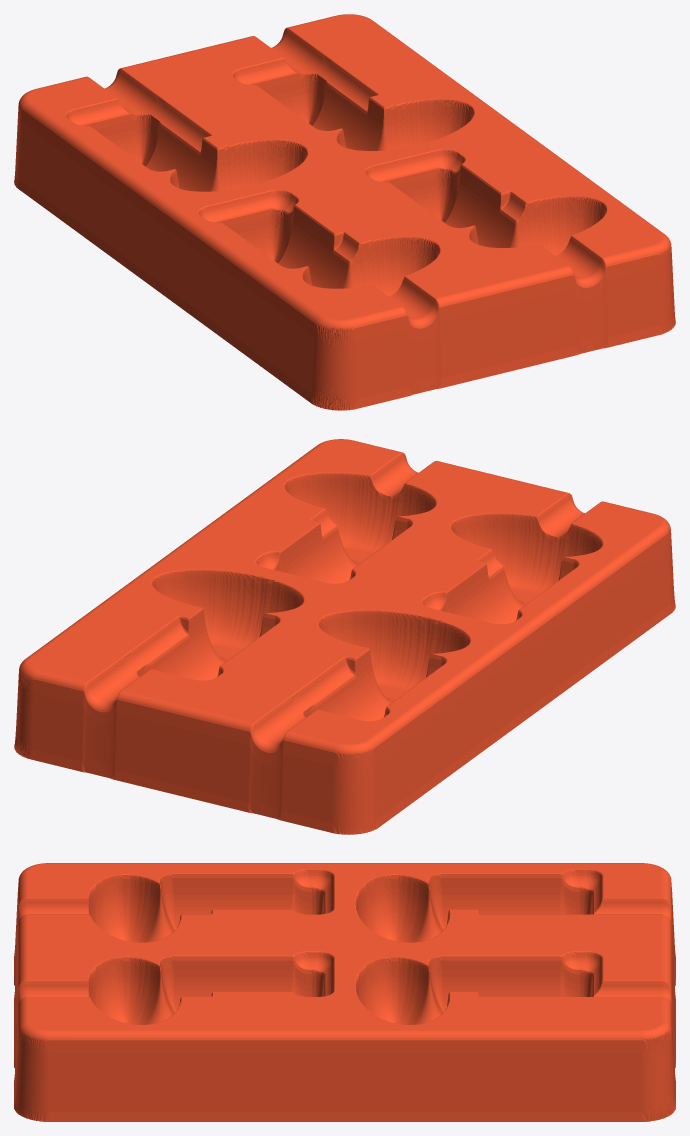
The model's file is mold.glb.
The picture shows the model from 3 angles, top to bottom: view 1: azimuth 30°, elevation 25°; view 2: azimuth 150°, elevation 25°; view 3: azimuth 270°, elevation 25°; orthographic projection.
Visible parts, largest first — view 1: geometry_0; view 2: geometry_0; view 3: geometry_0.
Boxes of the visible parts, x1,y1,x2,y2 form: geometry_0: (14, 14, 675, 410); geometry_0: (14, 439, 675, 834); geometry_0: (14, 863, 675, 1121).
Size of the model in its own units: 0.1088 by 0.0245 by 0.171.
